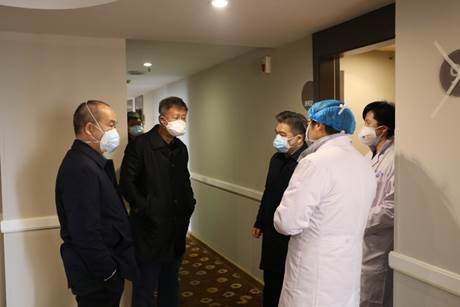correctlyWear: (84, 113, 121, 153), (357, 113, 391, 145), (305, 109, 330, 148), (273, 122, 304, 152), (158, 105, 188, 134)
